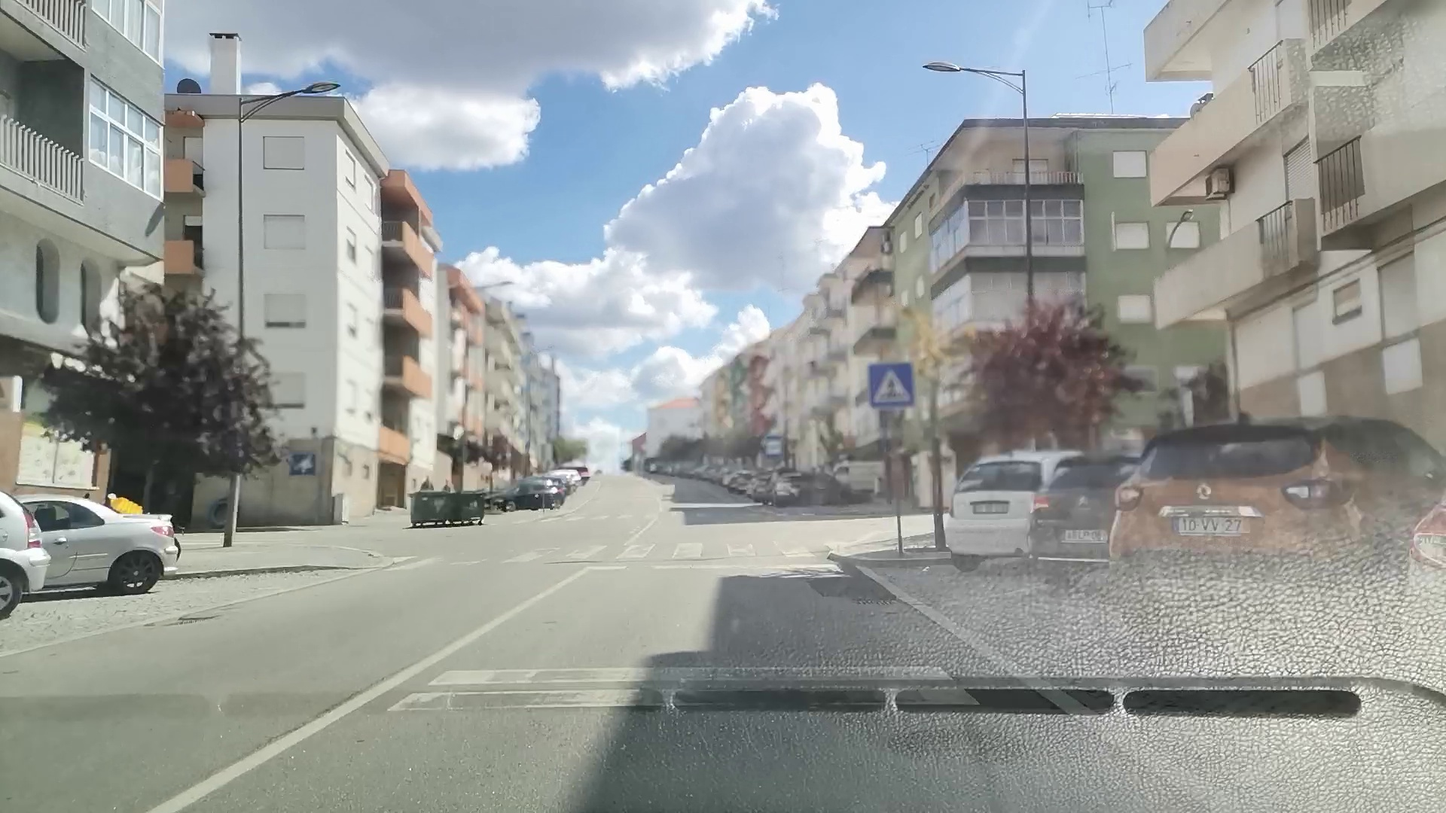Stairs: (379, 537, 832, 568)
